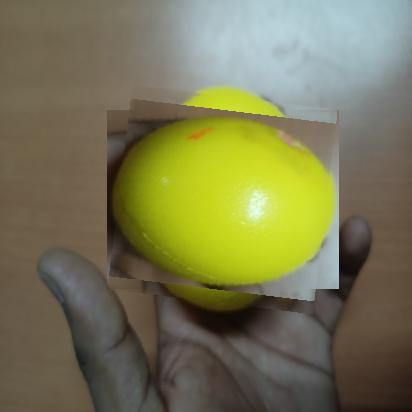Yellowball: (113, 91, 332, 308)
